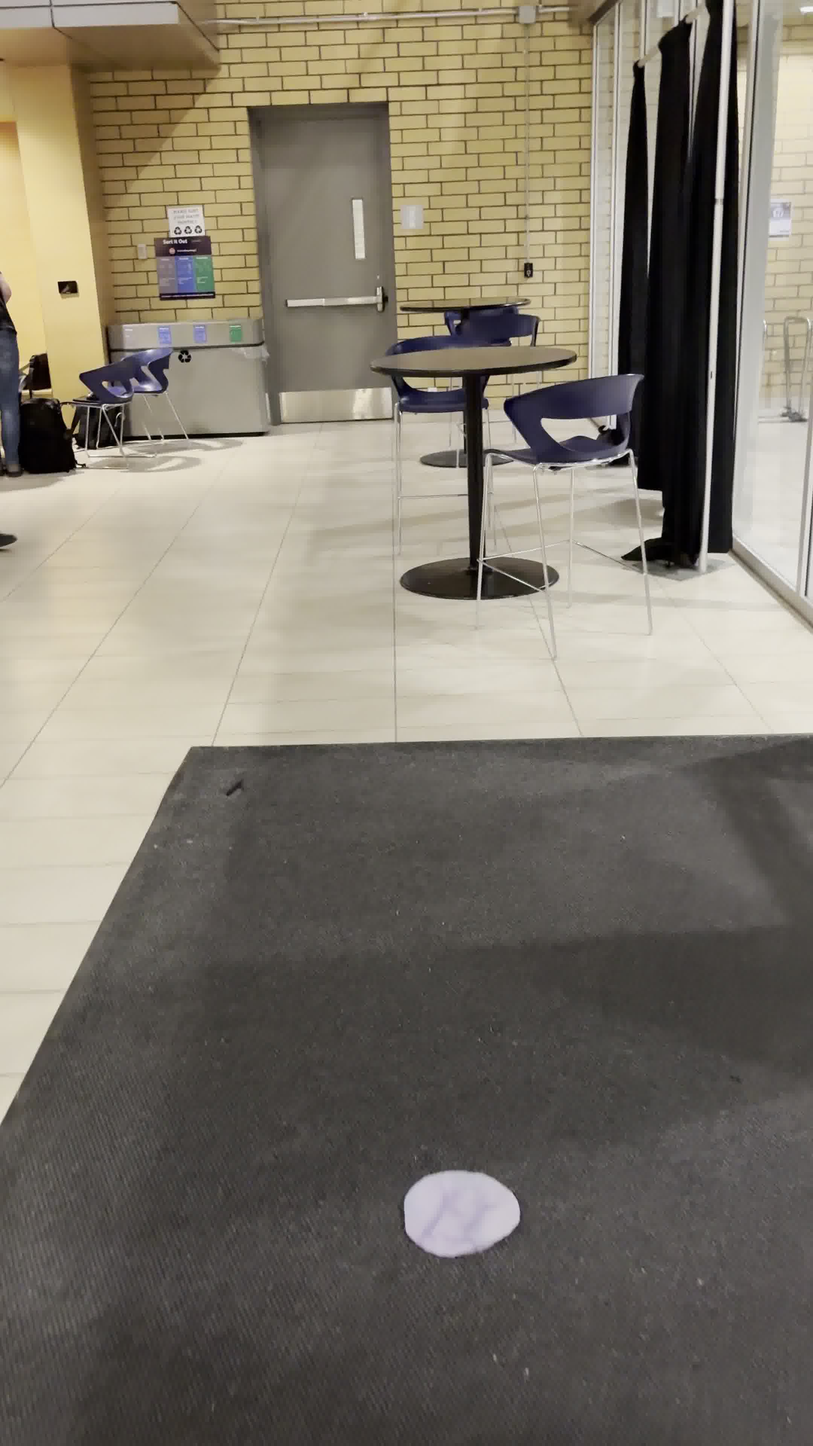Target: (401, 1166, 522, 1259)
